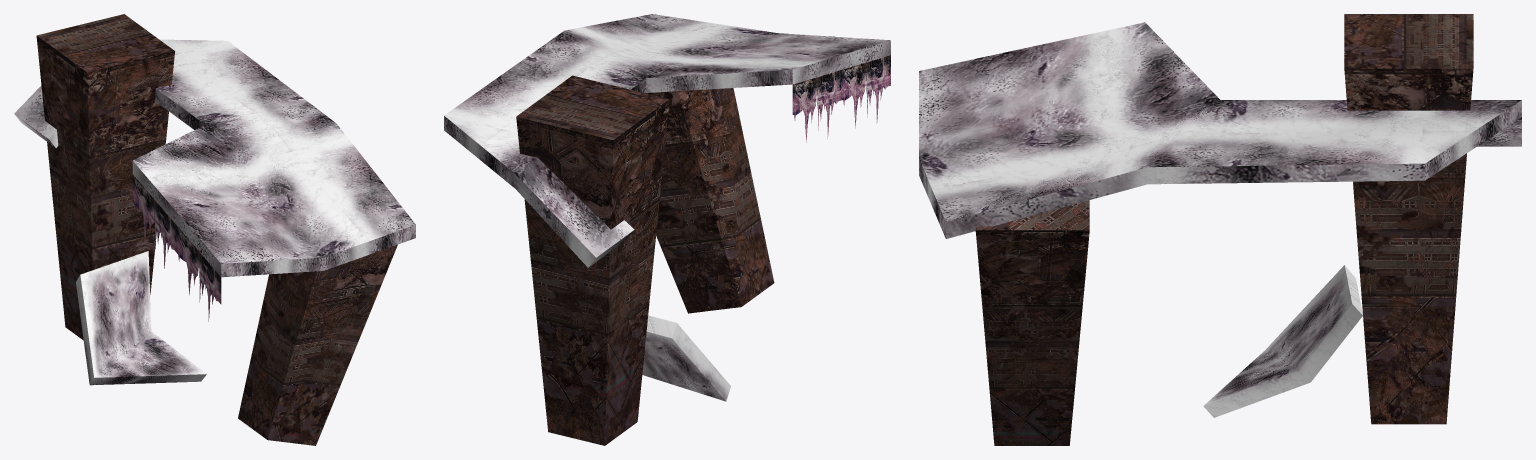
The model's file is bbdest04.FBX.
The picture shows the model from 3 angles, left to right: view 1: azimuth 30°, elevation 25°; view 2: azimuth 150°, elevation 25°; view 3: azimuth 270°, elevation 25°; orthographic projection. The views are drawn at different scales.
Parts seen in each view (by area): view 1: roof, bbdest04, dmg4__2; view 2: bbdest04, roof, dmg4__2; view 3: roof, bbdest04.
Part boxes in pixels (x1,y1,x2,y2): roof: (14,39,415,385); bbdest04: (36,14,397,445); dmg4__2: (132,174,221,321); bbdest04: (516,75,774,445); roof: (444,14,890,401); dmg4__2: (792,55,890,142); roof: (919,22,1521,417); bbdest04: (975,14,1473,445).
Size of the model in its own units: 32.58 by 64 by 43.96.
